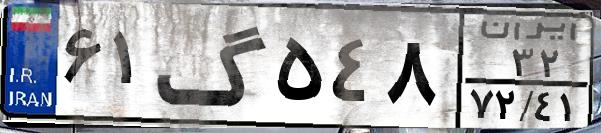1: (110, 28, 156, 98), (560, 70, 590, 125)
2: (537, 27, 568, 80), (495, 70, 520, 125)
3: (508, 27, 537, 80)
4: (330, 28, 385, 110), (535, 70, 560, 125)
5: (270, 28, 330, 110)
6: (57, 26, 110, 100)
7: (470, 70, 495, 125)
8: (385, 28, 445, 110)
گ: (156, 12, 270, 120)
